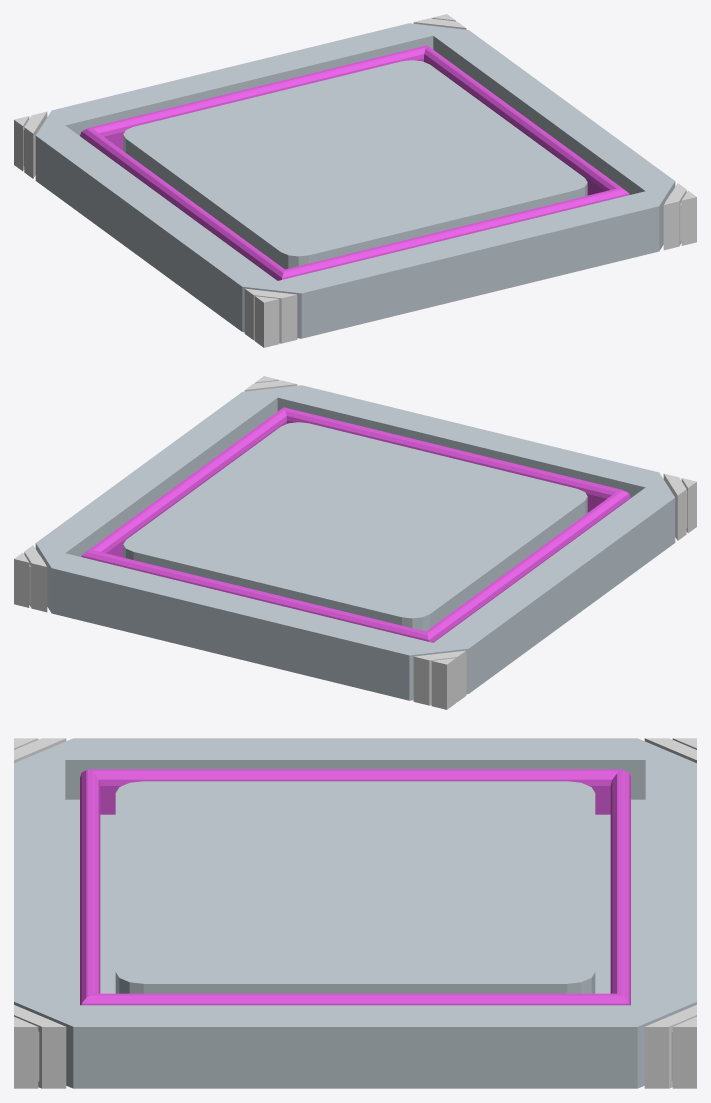
The model's file is floorhint1.1.fbx.
3 renders of one model, top to bottom at view 1: azimuth 30°, elevation 25°; view 2: azimuth 150°, elevation 25°; view 3: azimuth 270°, elevation 25°, orthographic. The views are drawn at different scales.
Visible parts, largest first — view 1: flooriron.004; view 2: flooriron.004; view 3: flooriron.004.
Part boxes in pixels (x1,y1,x2,y2): flooriron.004: (14, 14, 696, 347); flooriron.004: (14, 376, 696, 709); flooriron.004: (14, 738, 696, 1088).
Size of the model in its own units: 4 by 0.4 by 4.
